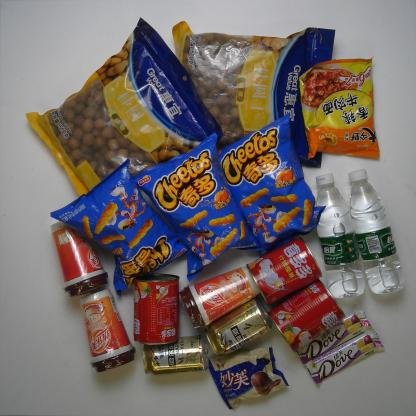Alcohol: (202, 296, 273, 358), (142, 332, 211, 378)
Canned Food: (267, 278, 347, 353), (244, 236, 324, 308), (128, 270, 182, 348)
Chocolate: (294, 307, 375, 366), (304, 328, 385, 385)
Dessert: (206, 344, 290, 412)
Dried Food: (21, 14, 223, 208), (164, 18, 338, 168)
Drink: (346, 167, 407, 296), (312, 172, 366, 300)
Instant Drink: (178, 263, 266, 331), (79, 288, 138, 376), (51, 216, 109, 301)
Instant Noodles: (298, 55, 381, 160)
Puffed Food: (129, 130, 269, 282), (49, 157, 197, 298), (207, 111, 328, 258)
